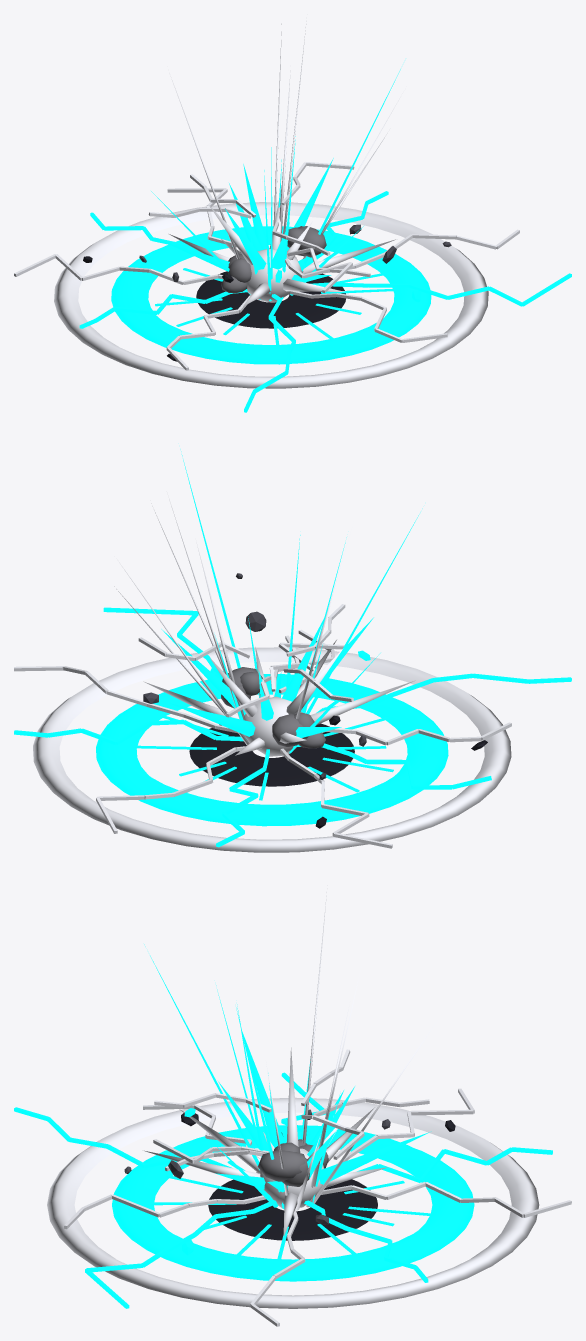
File: SpaceShotgun_Impact.fbx
3 views of the same model, one above another, from view 1: azimuth 30°, elevation 25°; view 2: azimuth 150°, elevation 25°; view 3: azimuth 270°, elevation 25° (orthographic). The views are drawn at different scales.
Parts seen in each view (by area): view 1: Imp_Onda_ion, Imp_Chispas_ion, Imp_Flash_ion, Imp_Crater_ion, Imp_Humo_ion, Imp_Escombros_ion; view 2: Imp_Onda_ion, Imp_Chispas_ion, Imp_Flash_ion, Imp_Crater_ion, Imp_Humo_ion, Imp_Escombros_ion; view 3: Imp_Onda_ion, Imp_Chispas_ion, Imp_Flash_ion, Imp_Crater_ion, Imp_Humo_ion, Imp_Escombros_ion.
Part boxes in pixels (x1,y1,x2,y2): Imp_Onda_ion: (54,202,488,388); Imp_Chispas_ion: (14,21,571,412); Imp_Flash_ion: (163,158,395,306); Imp_Crater_ion: (155,246,394,344); Imp_Humo_ion: (221,226,326,293); Imp_Escombros_ion: (83,224,451,361); Imp_Onda_ion: (33,647,511,852); Imp_Chispas_ion: (14,449,571,848); Imp_Flash_ion: (143,617,415,756); Imp_Crater_ion: (135,700,393,800); Imp_Humo_ion: (221,667,325,748); Imp_Escombros_ion: (143,573,487,828); Imp_Onda_ion: (47,1097,539,1308); Imp_Chispas_ion: (14,885,571,1326); Imp_Flash_ion: (144,1032,431,1236); Imp_Crater_ion: (151,1161,431,1258); Imp_Humo_ion: (257,1139,328,1186); Imp_Escombros_ion: (124,1108,455,1255).
Bounding box in the file's own units: 38.64 × 20.89 × 37.75.
